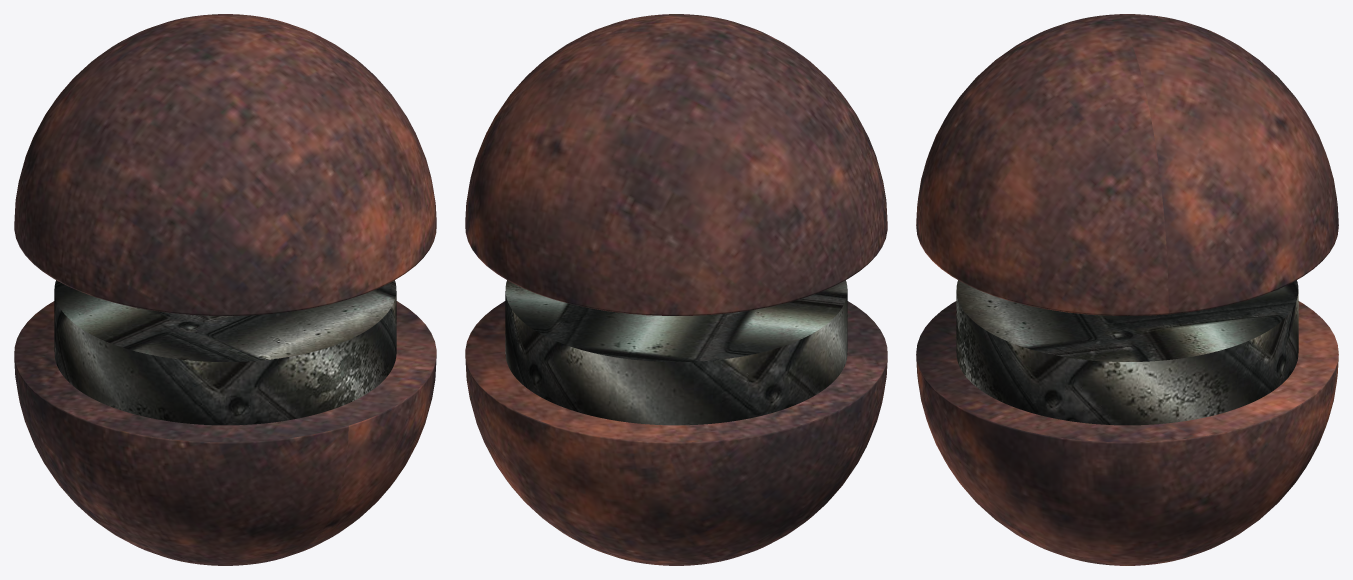
Rendered from droid_anim_000027.obj.
The picture shows the model from 3 angles, left to right: view 1: azimuth 30°, elevation 25°; view 2: azimuth 150°, elevation 25°; view 3: azimuth 270°, elevation 25°; orthographic projection.
Parts seen in each view (by area): view 1: Sphere.004, Sphere.005, Cylinder.002; view 2: Sphere.004, Sphere.005, Cylinder.002; view 3: Sphere.004, Sphere.005, Cylinder.002.
Boxes of the visible parts, <box> form: Sphere.004: <box>14,14,436,315</box>; Sphere.005: <box>14,301,436,565</box>; Cylinder.002: <box>54,280,396,425</box>; Sphere.004: <box>465,14,887,315</box>; Sphere.005: <box>465,301,887,565</box>; Cylinder.002: <box>505,280,847,425</box>; Sphere.004: <box>916,14,1338,315</box>; Sphere.005: <box>916,301,1338,565</box>; Cylinder.002: <box>956,280,1298,425</box>.
Size of the model in its own units: 2 by 2.68 by 2.
Materials: 3 (3 with a texture image).
